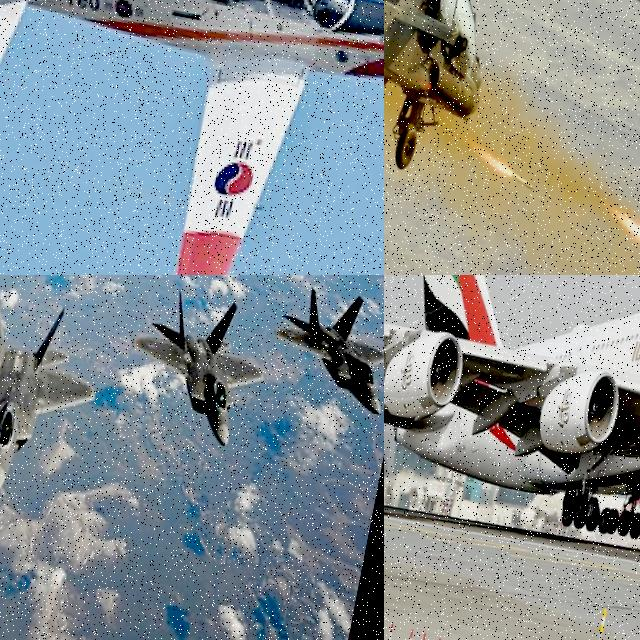A380: (384, 275, 640, 591)
Apache: (384, 0, 640, 219)
F22: (118, 280, 276, 458), (0, 287, 114, 508), (256, 275, 384, 432)
KT-1: (0, 0, 384, 275)
